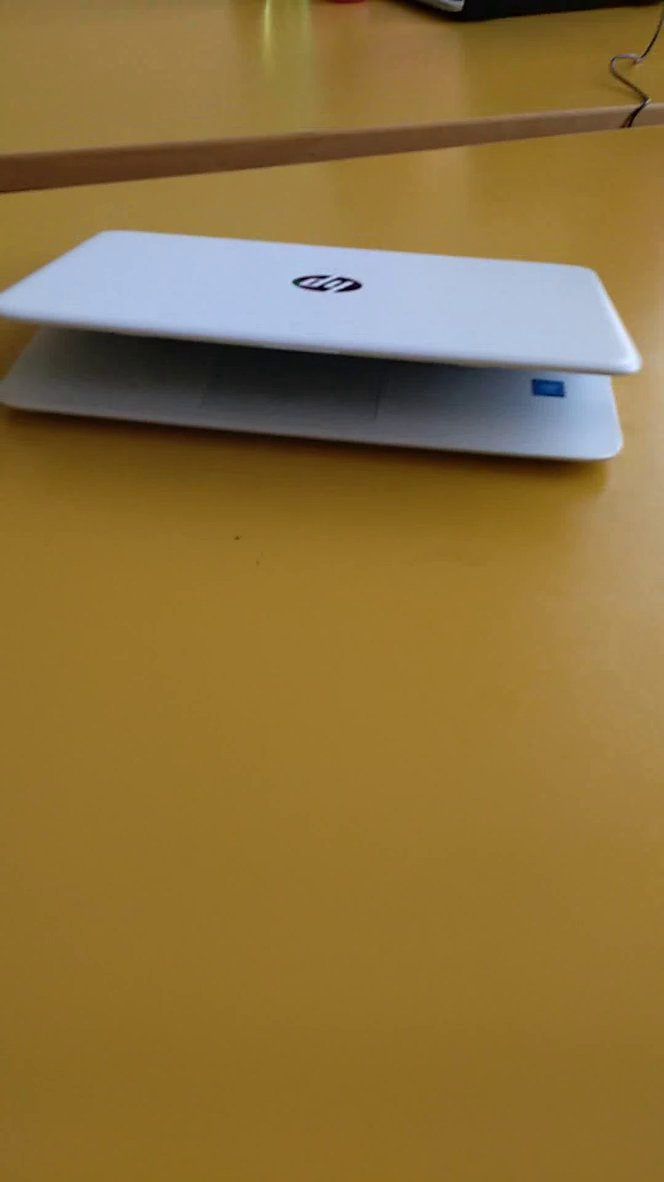laptop: (1, 203, 651, 507)
